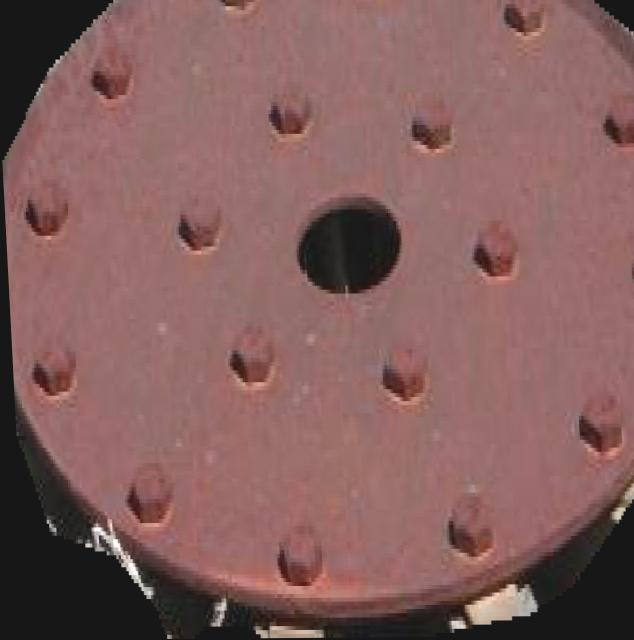Uniform Corrosion: (1, 0, 634, 639)
